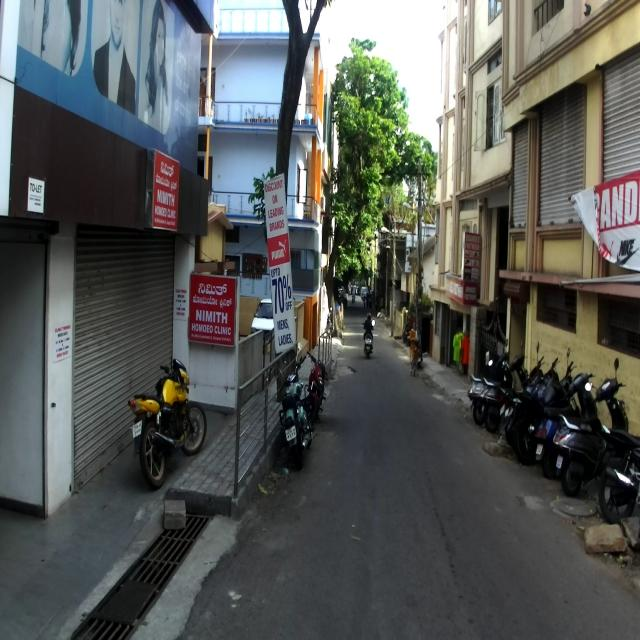motorcycle: (128, 357, 208, 490), (509, 347, 582, 466), (504, 356, 560, 465), (592, 424, 640, 526), (499, 340, 545, 444), (278, 355, 314, 472), (306, 350, 329, 430)
scooter: (552, 357, 628, 497), (535, 372, 599, 478), (477, 339, 529, 433), (466, 337, 520, 426)
